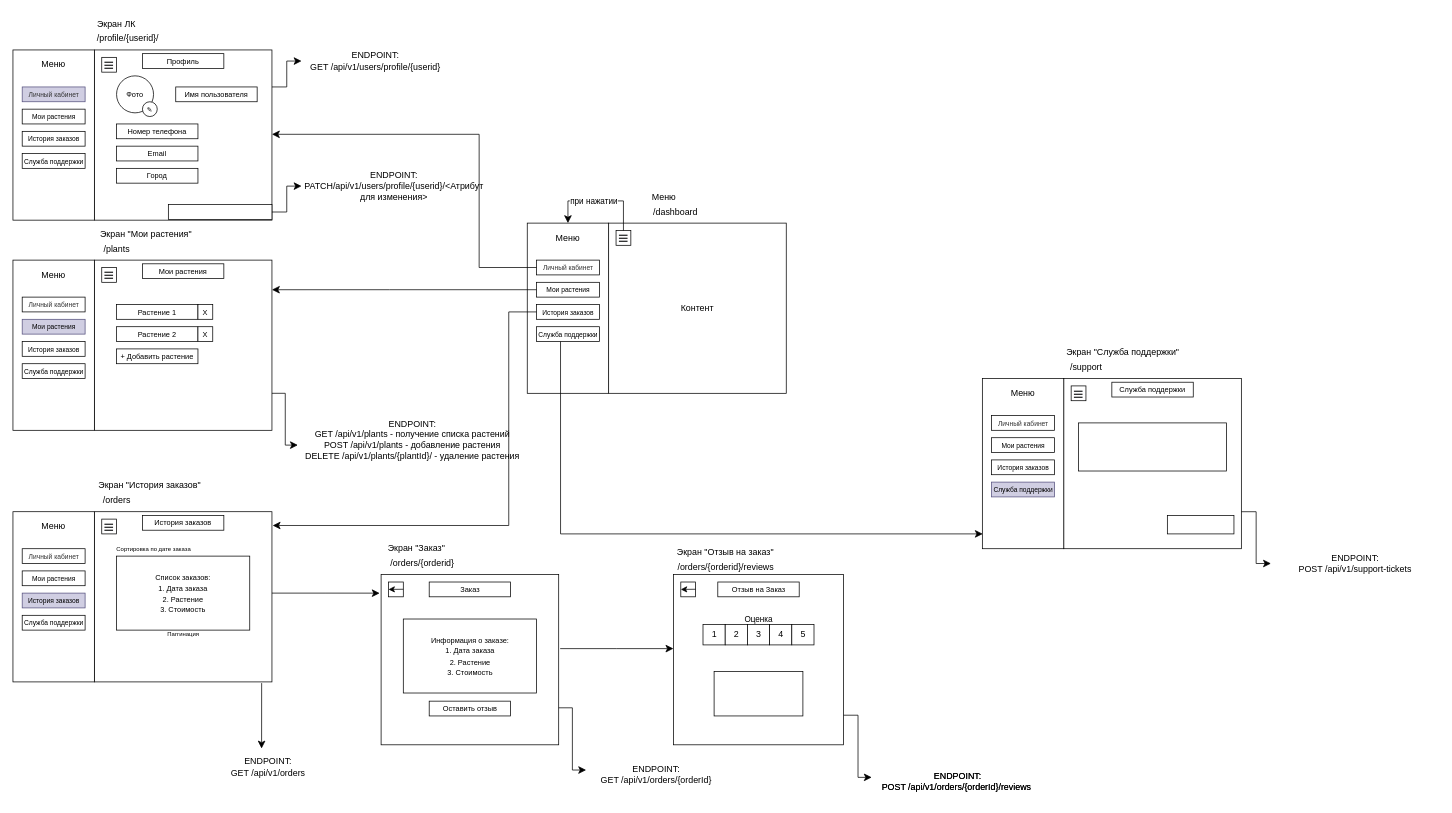
Some shapes in this 1452 by 813 pixel diagram are drawn without their labels. The centre of each missing label's shape, as x and y in pixels:
Отправить: the point at 1200,524
✎ Комментарий: the point at 758,693
✎ Опишите вашу проблему: the point at 1152,446
✎ Редактировать профиль: the point at 220,211
